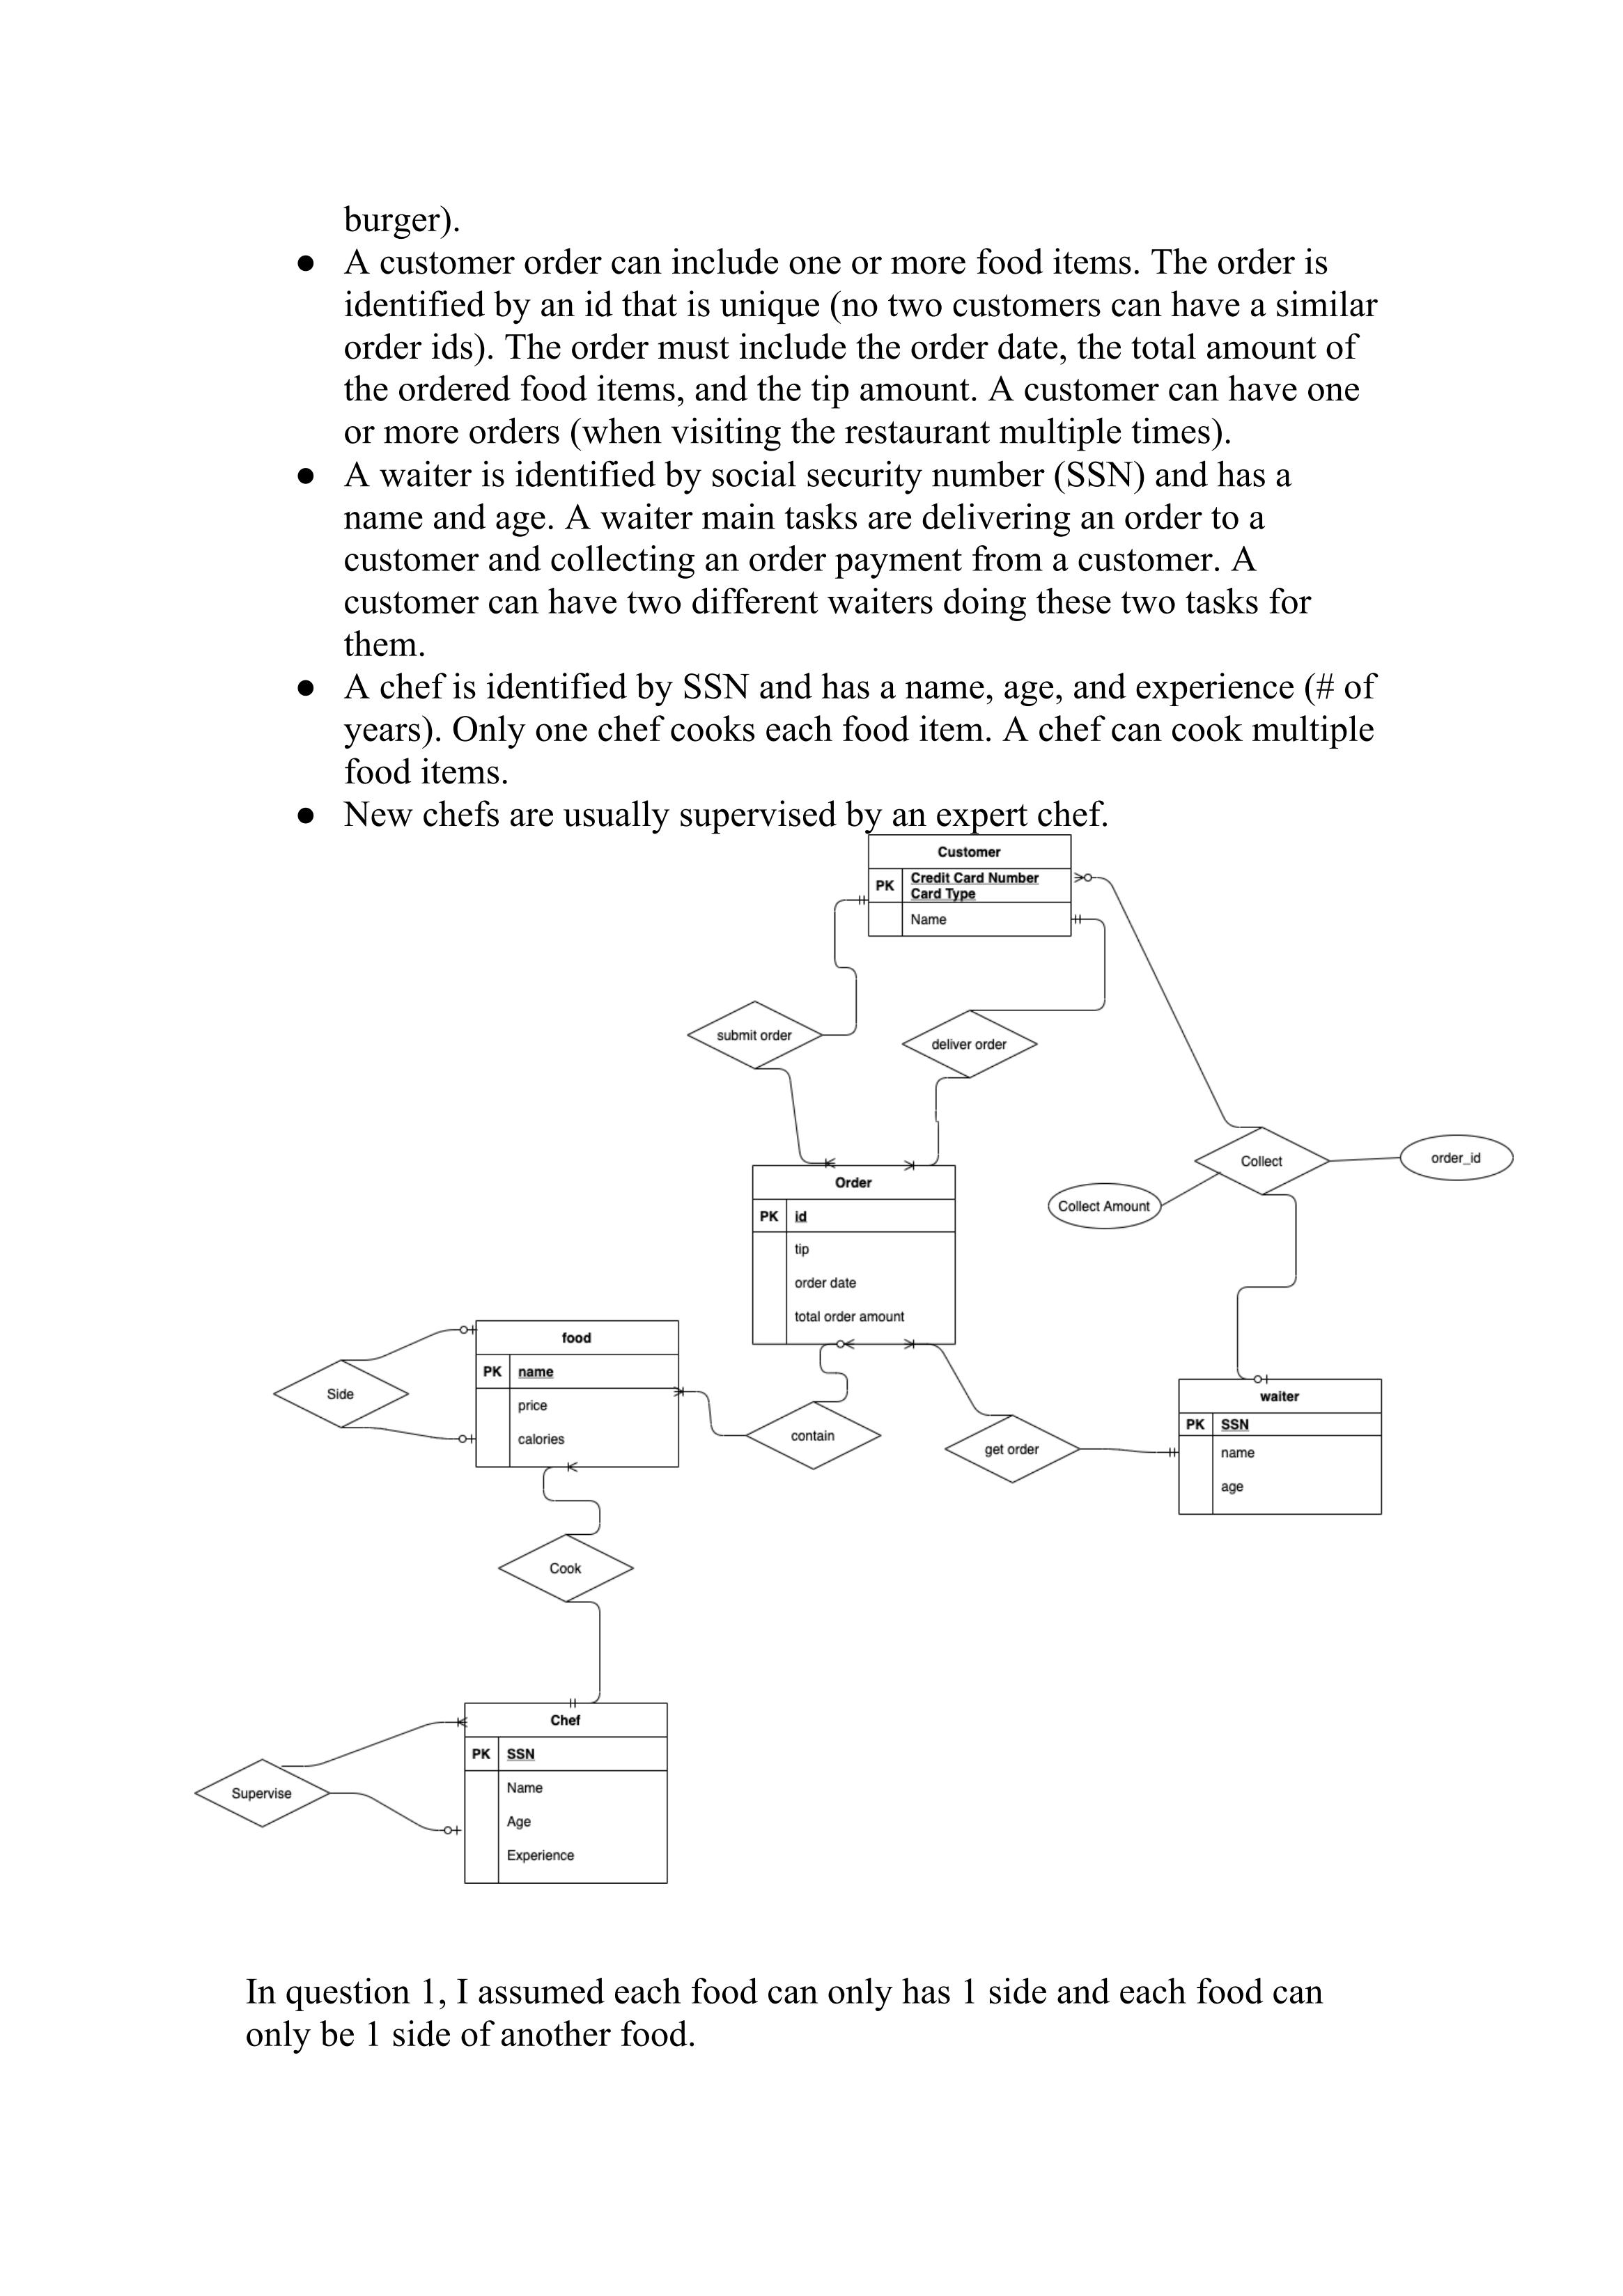Attribute: (1400, 1132, 1518, 1185), (1047, 1181, 1165, 1231)
Entity: (745, 1160, 961, 1352), (458, 1697, 673, 1889), (465, 1317, 685, 1476), (1173, 1374, 1382, 1520), (864, 830, 1077, 944)
Relationship: (901, 1004, 1043, 1081), (269, 1357, 413, 1432), (495, 1531, 639, 1604), (1193, 1123, 1333, 1199), (943, 1411, 1084, 1487), (745, 1399, 885, 1471), (195, 1757, 335, 1829), (687, 997, 824, 1071)
